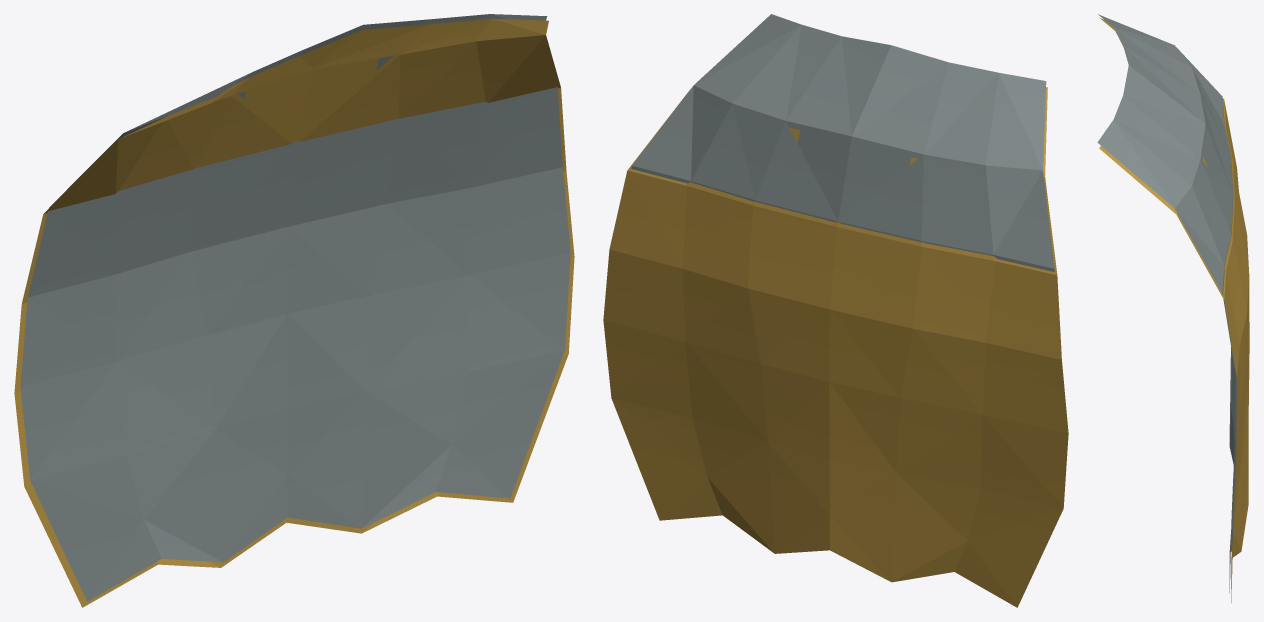
Rendered from elfo_capa_3.glb.
3 renders of one model, left to right at view 1: azimuth 30°, elevation 25°; view 2: azimuth 150°, elevation 25°; view 3: azimuth 270°, elevation 25°, orthographic. The views are drawn at different scales.
Parts seen in each view (by area): view 1: elfo_capa_3; view 2: elfo_capa_3; view 3: elfo_capa_3.
Boxes of the visible parts, <box> form: elfo_capa_3: <box>14,14,574,607</box>; elfo_capa_3: <box>603,14,1068,607</box>; elfo_capa_3: <box>1097,14,1249,602</box>.
Size of the model in its own units: 1.17 by 1.15 by 0.3466.
1 material, 1 textured.
